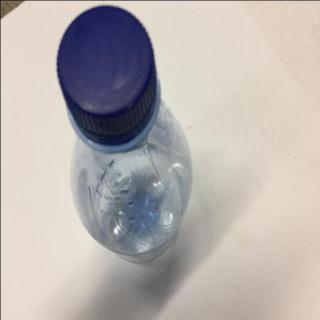Anorganik: (55, 5, 194, 273)
